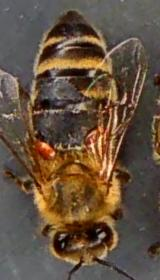varroa_mite: (30, 134, 58, 166)
